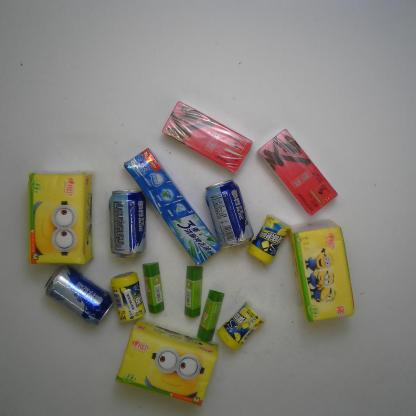Alcohol: (38, 262, 116, 329), (202, 176, 256, 252), (106, 185, 153, 262)
Gum: (215, 299, 269, 353), (245, 211, 294, 264), (108, 267, 148, 327)
Instant Drink: (257, 126, 339, 220), (158, 97, 254, 177)
Personal Hygiene: (118, 145, 223, 274)
Stationery: (196, 286, 228, 344), (138, 258, 166, 317), (179, 264, 206, 319)
Tissue: (112, 314, 221, 412), (282, 217, 358, 325), (24, 168, 97, 270)
